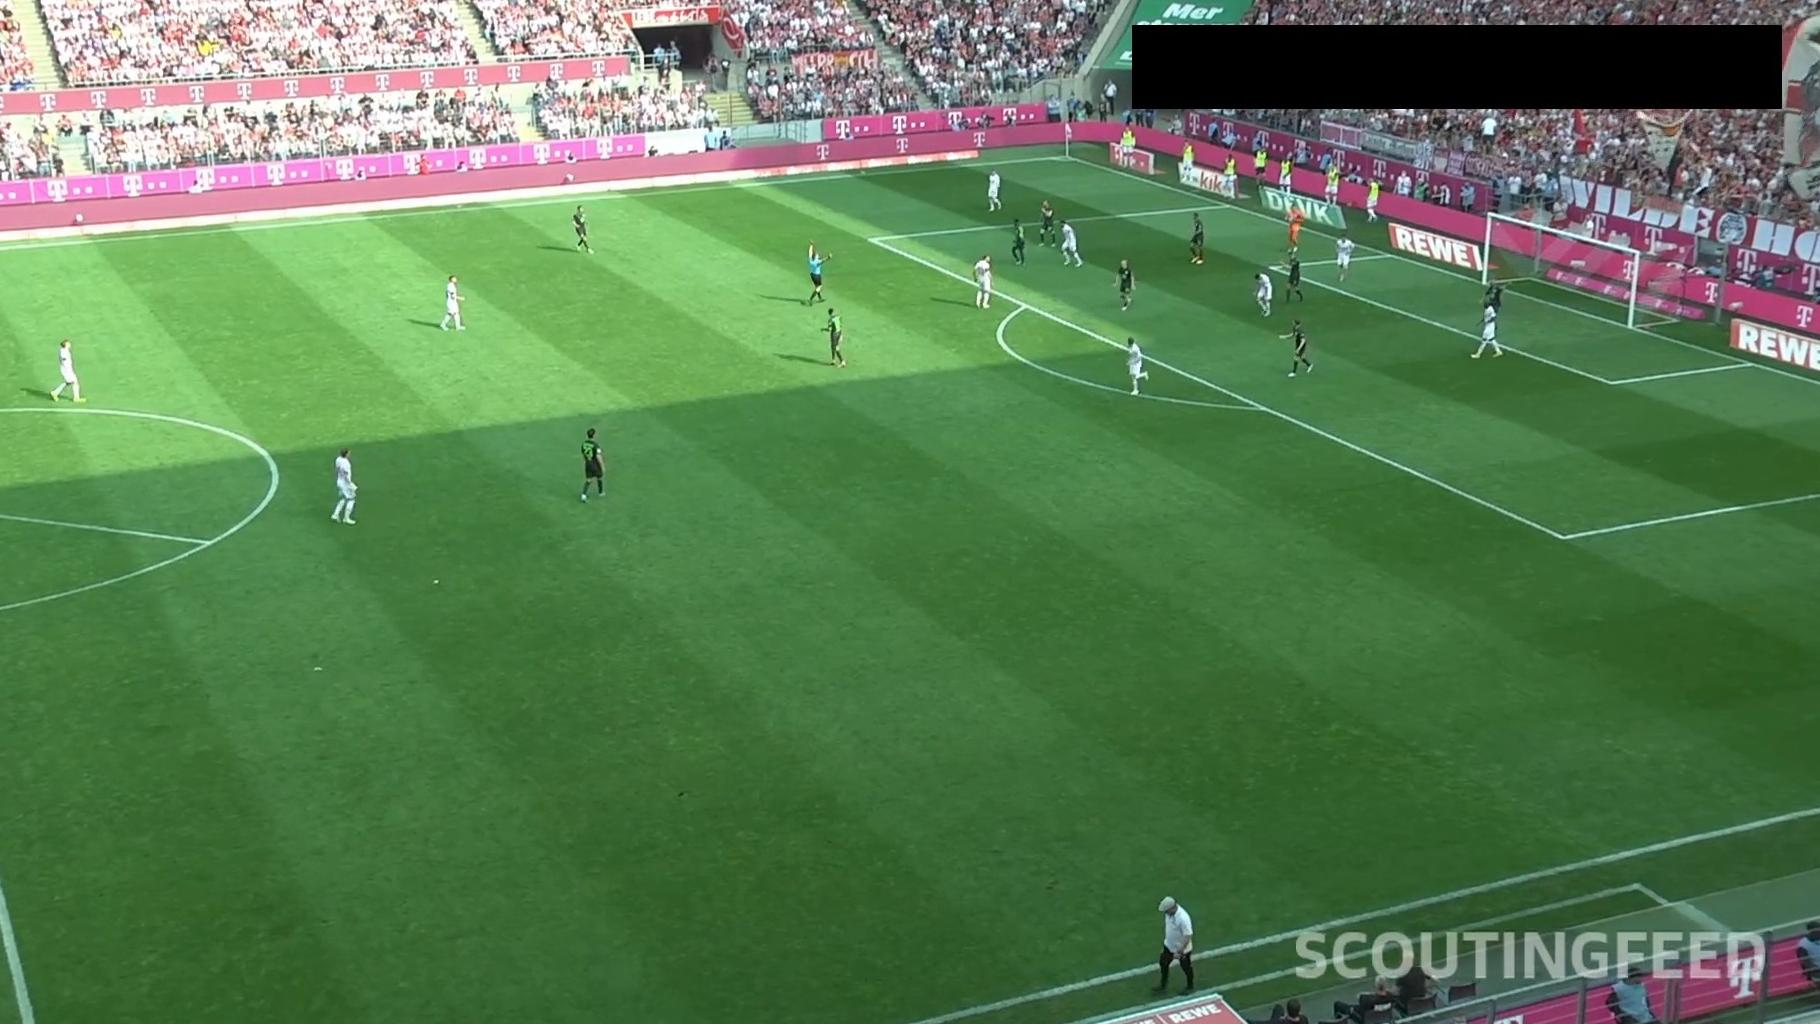ball: (1285, 214, 1295, 223)
